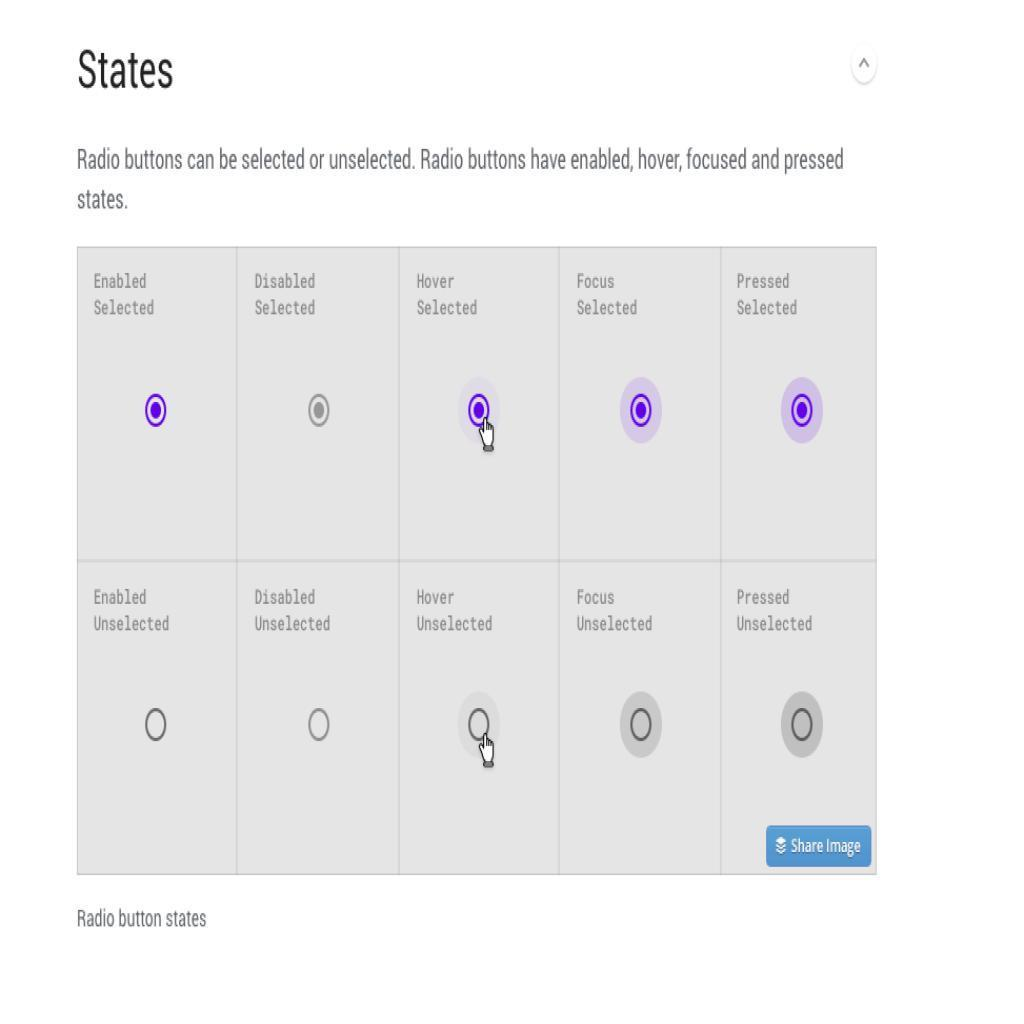button: (766, 826, 872, 868)
radio: (779, 691, 827, 758), (780, 376, 827, 444), (620, 378, 664, 445), (620, 693, 664, 758), (143, 703, 172, 747), (142, 391, 172, 431), (307, 704, 335, 746), (307, 394, 334, 431)
